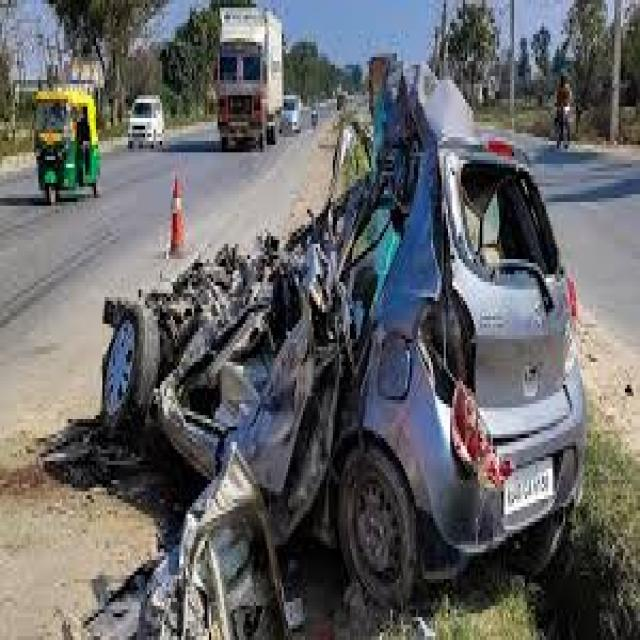accident: (107, 139, 568, 567)
